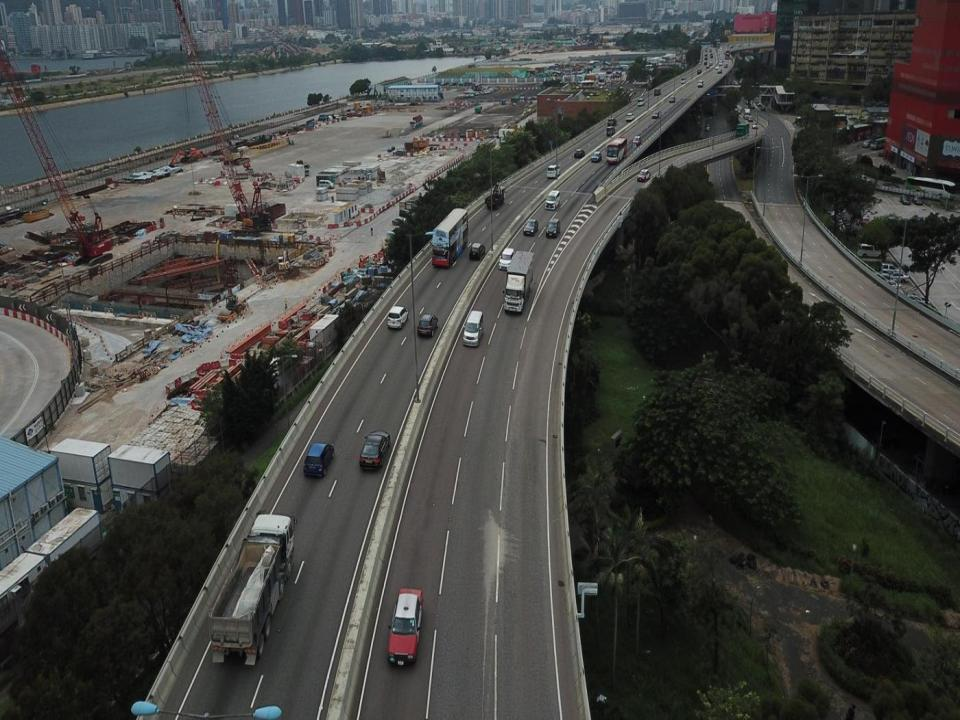bus: (430, 206, 470, 270), (906, 174, 956, 203), (604, 136, 628, 166), (870, 137, 889, 150)
car: (387, 587, 423, 666), (358, 430, 392, 472), (302, 441, 336, 478), (417, 313, 439, 340), (386, 304, 408, 331), (496, 246, 516, 271), (468, 241, 486, 262), (544, 216, 561, 238), (879, 277, 901, 293), (879, 260, 902, 275), (544, 190, 561, 209), (522, 218, 539, 236), (546, 163, 561, 178), (635, 168, 651, 182), (871, 273, 891, 282), (899, 192, 912, 205), (573, 147, 586, 159), (590, 150, 602, 162), (911, 194, 922, 207), (632, 134, 642, 146), (607, 116, 617, 127), (606, 124, 615, 136), (386, 144, 396, 154), (625, 112, 634, 122), (652, 88, 662, 97), (652, 109, 660, 120), (862, 139, 871, 148), (636, 97, 644, 107), (680, 77, 688, 85), (668, 95, 676, 102), (697, 78, 703, 86), (752, 121, 758, 129), (706, 122, 710, 130)
truck: (502, 250, 534, 316), (484, 183, 508, 210), (408, 114, 424, 130), (736, 121, 750, 139), (742, 107, 750, 121), (711, 101, 717, 116)
van: (462, 309, 484, 347), (858, 242, 882, 260), (318, 177, 334, 190)
